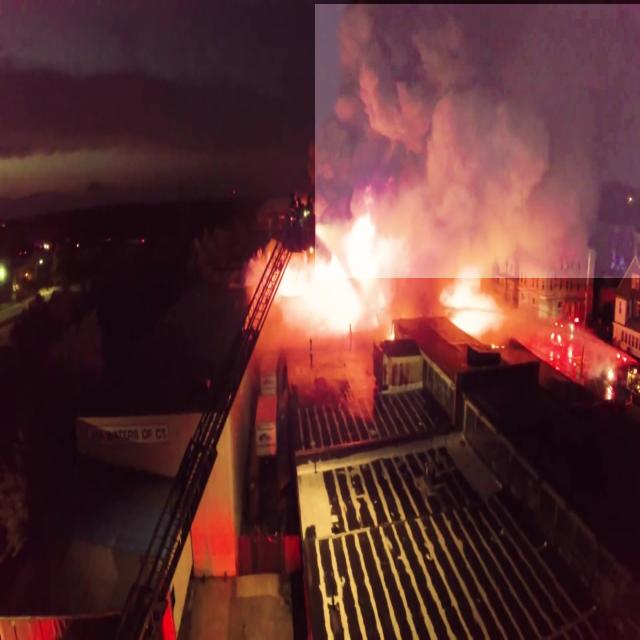Fire: (248, 230, 498, 376)
Smoke: (315, 4, 640, 278)
